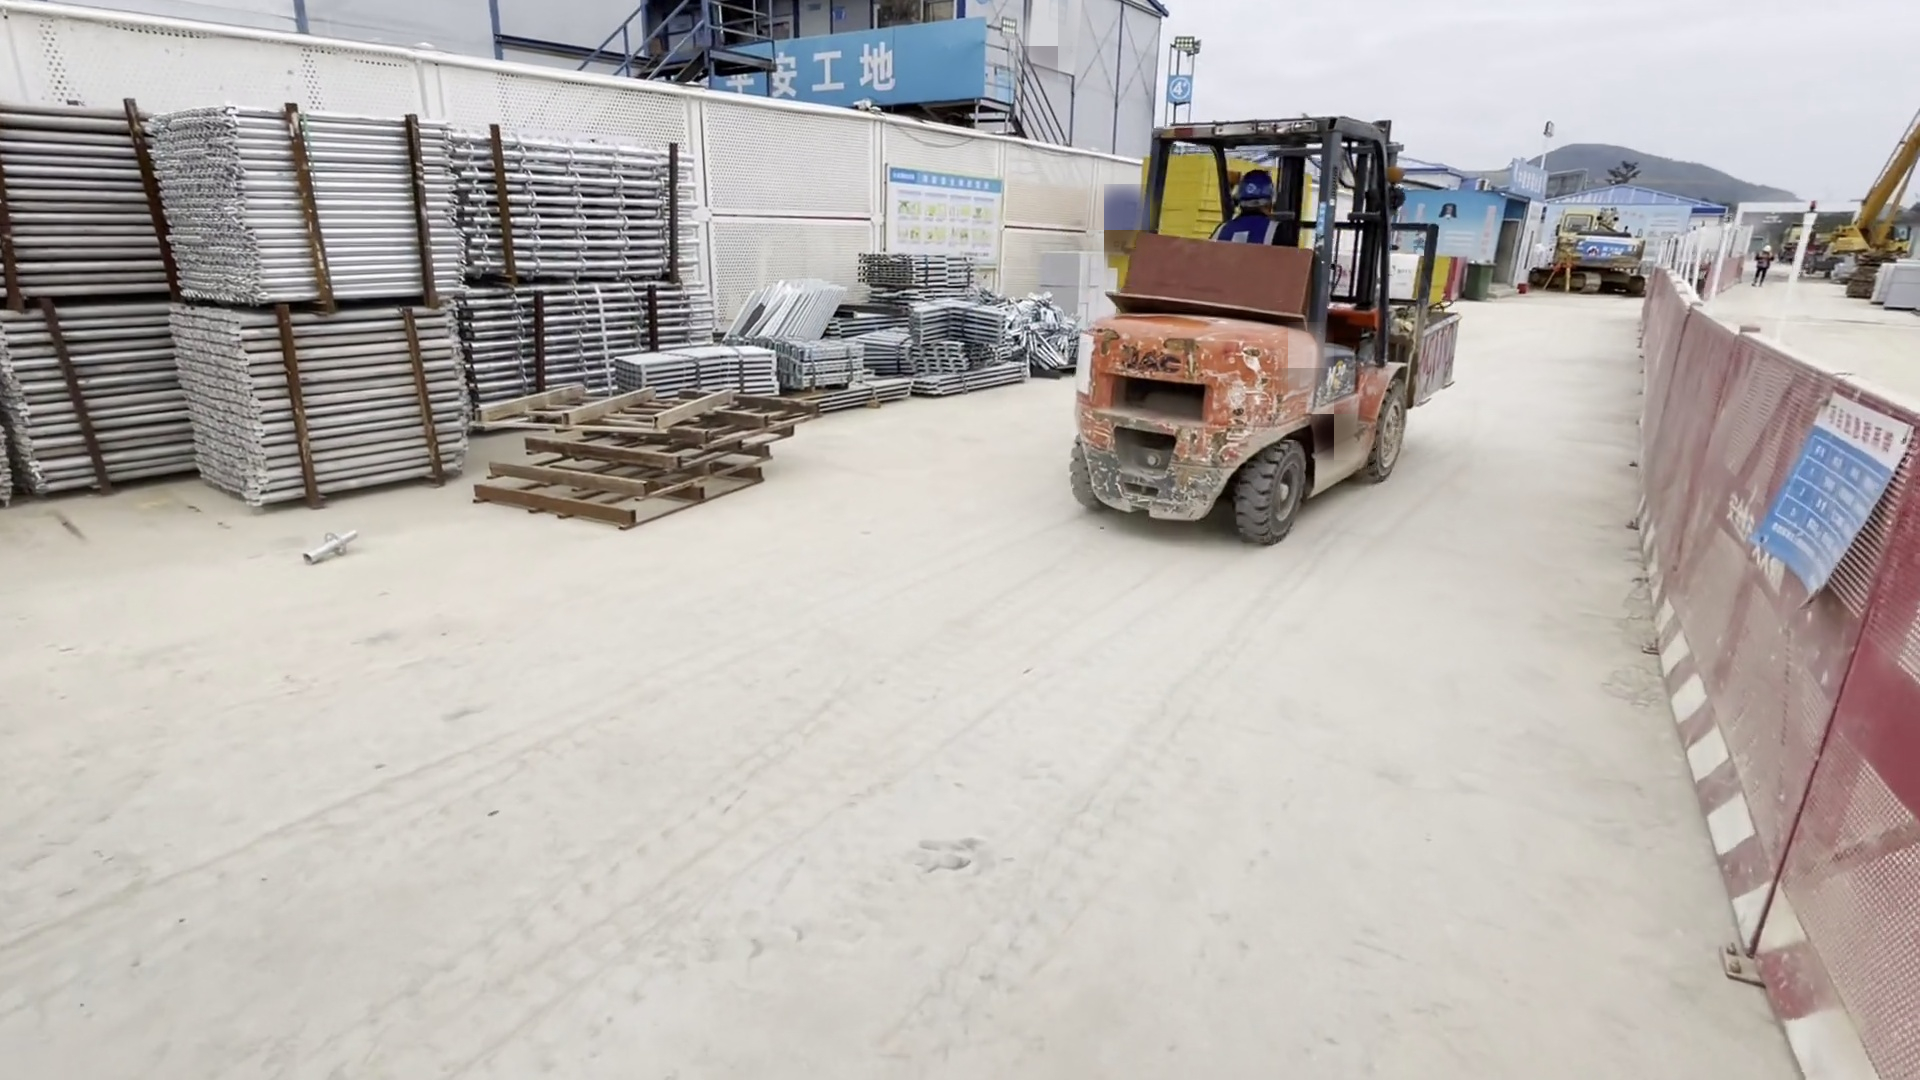fence: (1634, 285, 1894, 1080)
scaffold: (34, 125, 704, 488), (704, 253, 1075, 429)
